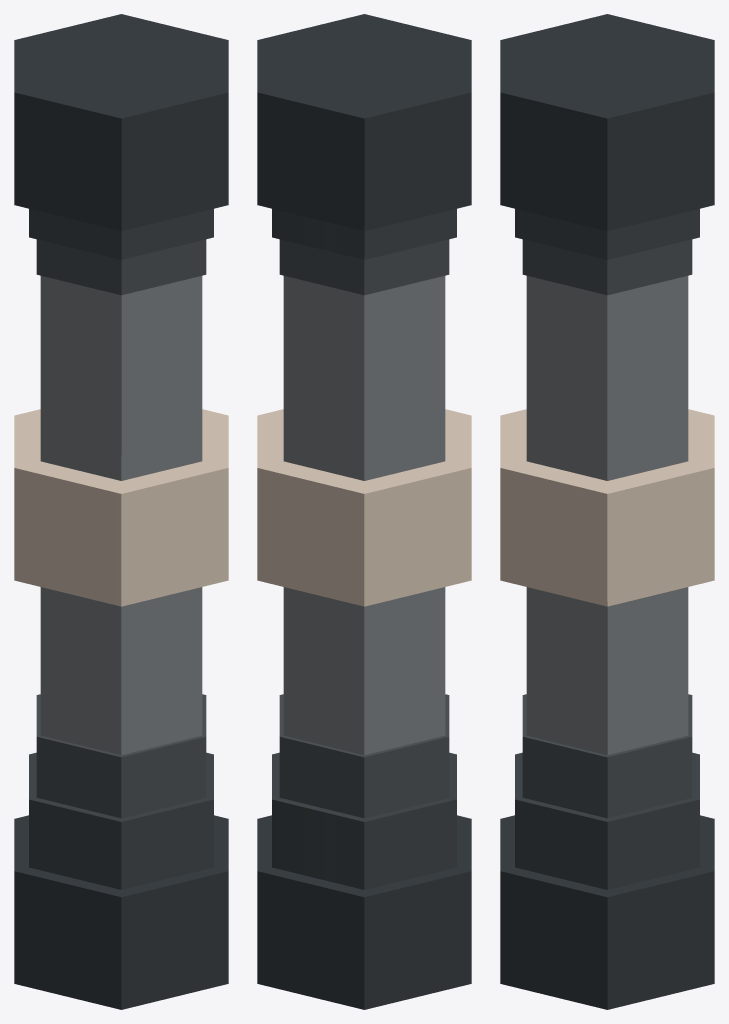
Rendered from Pillarbig.FBX.
3 views of the same model, side by side, from view 1: azimuth 30°, elevation 25°; view 2: azimuth 150°, elevation 25°; view 3: azimuth 270°, elevation 25° (orthographic).
Visible parts, largest first — view 1: Cylinder005; view 2: Cylinder005; view 3: Cylinder005.
Boxes of the visible parts, left/top/right/bottom form: Cylinder005: left=14, top=14, right=228, bottom=1009; Cylinder005: left=257, top=14, right=471, bottom=1009; Cylinder005: left=500, top=14, right=714, bottom=1009.
Bounding box in the file's own units: 275 × 1094 × 238.
